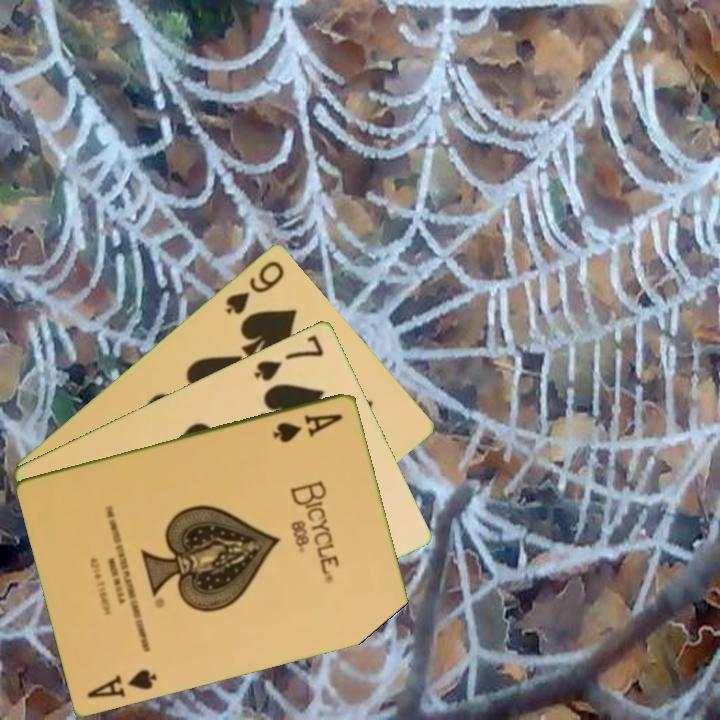7s: (250, 330, 327, 384)
9s: (222, 256, 288, 317)
As: (269, 409, 346, 445), (84, 665, 161, 701)
